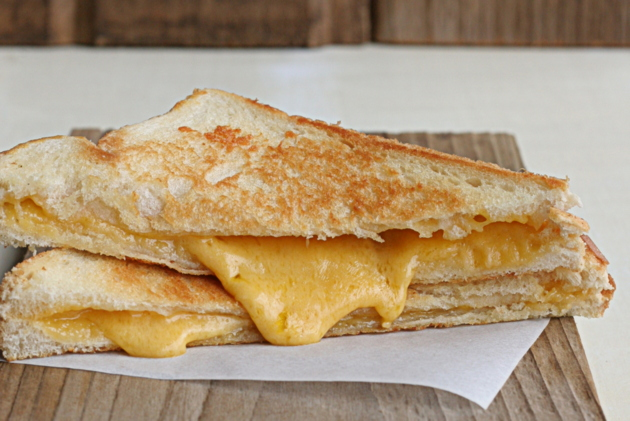sandwich: (3, 58, 629, 421)
